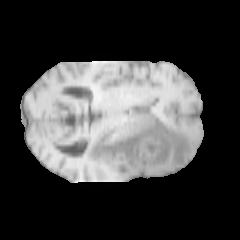glioma: (86, 112, 192, 175)
